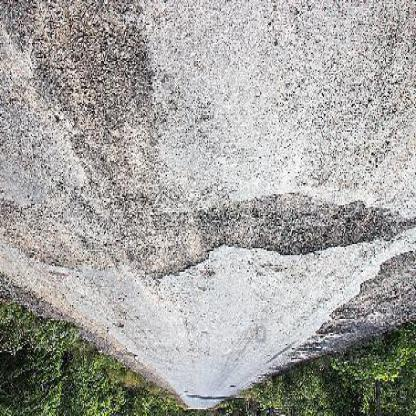pothole: (225, 198, 403, 259), (145, 203, 216, 284)
